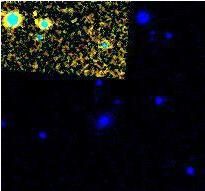star: (17, 0, 47, 28)
